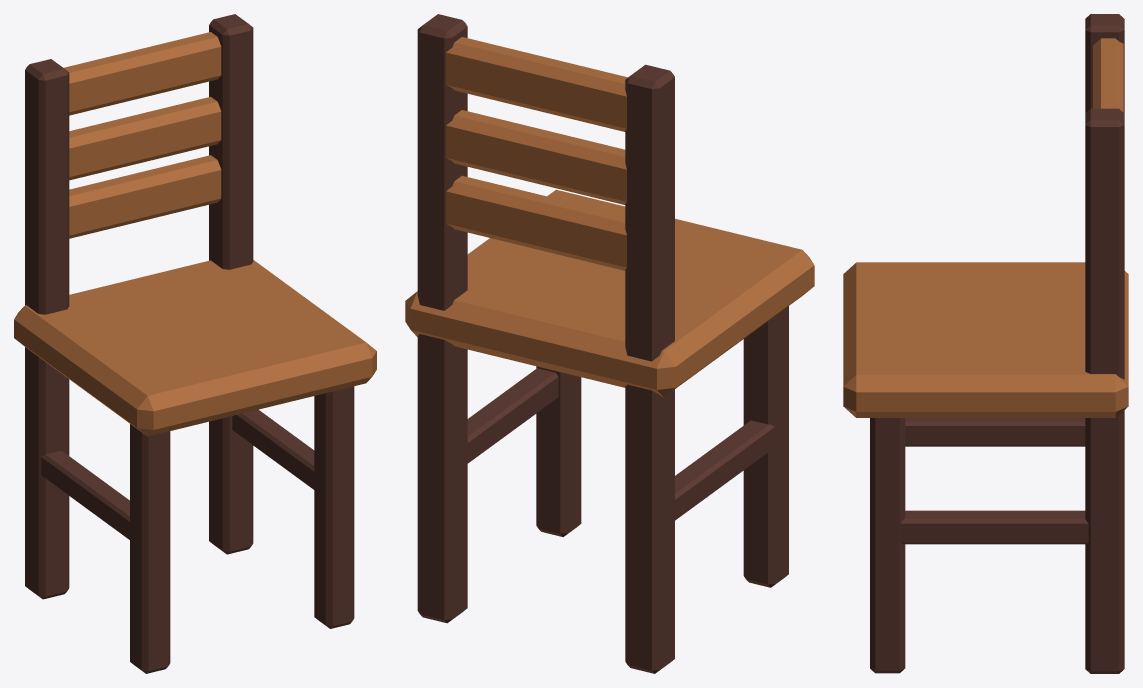
File: chair.glb
3 renders of one model, left to right at view 1: azimuth 30°, elevation 25°; view 2: azimuth 150°, elevation 25°; view 3: azimuth 270°, elevation 25°, orthographic. The views are drawn at different scales.
Visible parts, largest first — view 1: Assento, Perna dianteira; view 2: Perna dianteira, Assento; view 3: Perna dianteira, Assento.
Part boxes in pixels (box(x1,y1,x2,y2)): Assento: box(14, 32, 376, 436); Perna dianteira: box(25, 14, 354, 673); Perna dianteira: box(417, 14, 788, 673); Assento: box(405, 37, 814, 397); Perna dianteira: box(870, 14, 1124, 673); Assento: box(843, 38, 1128, 417).
Bounding box in the file's own units: 0.43 × 0.9 × 0.42.
